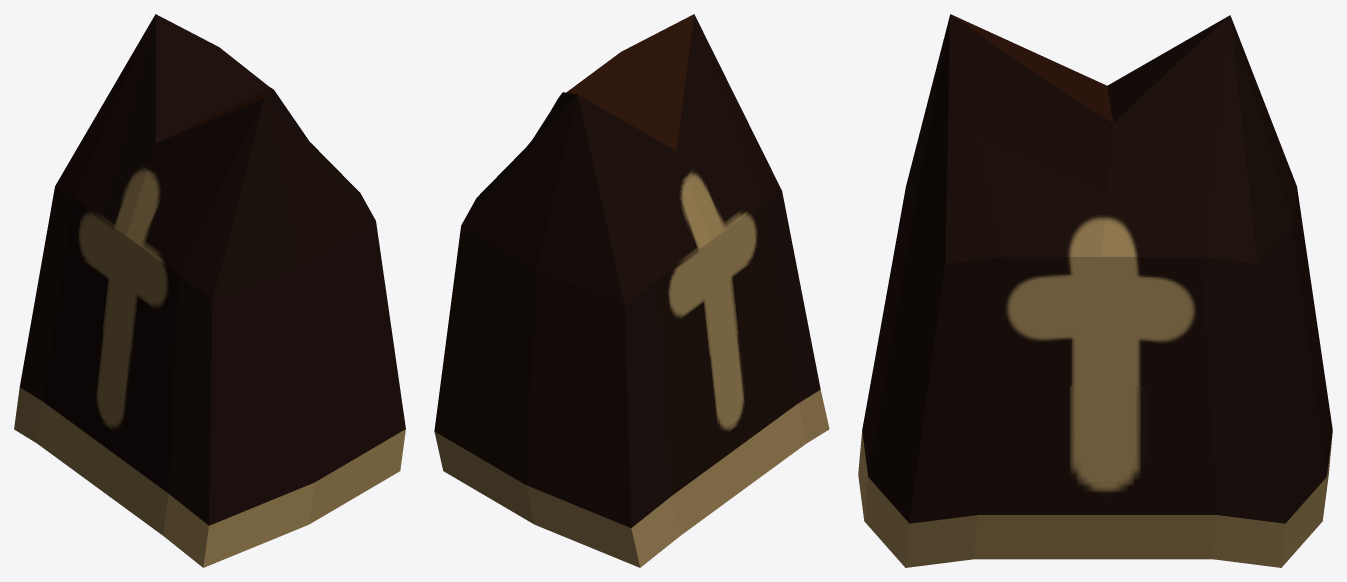
File: popehat2.fbx
The picture shows the model from 3 angles, left to right: view 1: azimuth 30°, elevation 25°; view 2: azimuth 150°, elevation 25°; view 3: azimuth 270°, elevation 25°; orthographic projection. The views are drawn at different scales.
Parts seen in each view (by area): view 1: Cube.001; view 2: Cube.001; view 3: Cube.001.
Part boxes in pixels (x1=…): Cube.001: x1=14, y1=14, x2=405, y2=567; Cube.001: x1=434, y1=14, x2=829, y2=567; Cube.001: x1=858, y1=14, x2=1332, y2=567.
Bounding box in the file's own units: 28.58 × 47.61 × 39.24.
